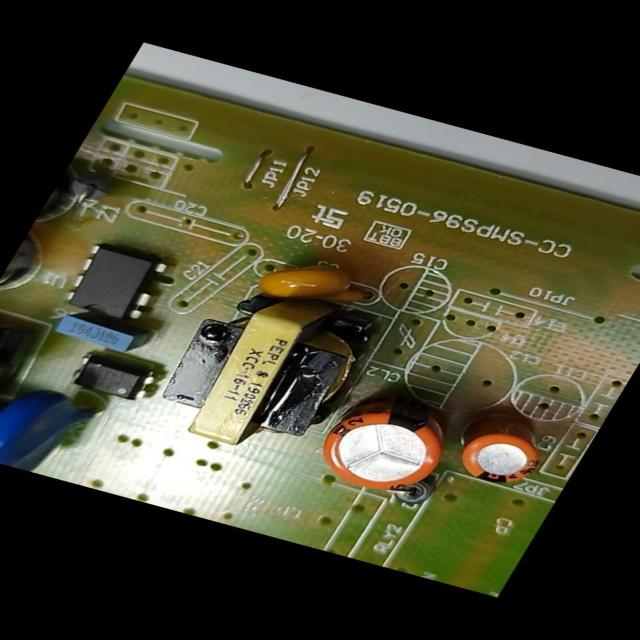Cap1: (292, 374, 475, 510)
Cap2: (436, 400, 570, 495)
Cap3: (0, 228, 86, 339)
Cap4: (17, 145, 144, 268)
MOSFET: (40, 234, 184, 332)
Mov: (0, 364, 106, 477)
Transformer: (129, 266, 406, 475), (0, 304, 52, 425)
